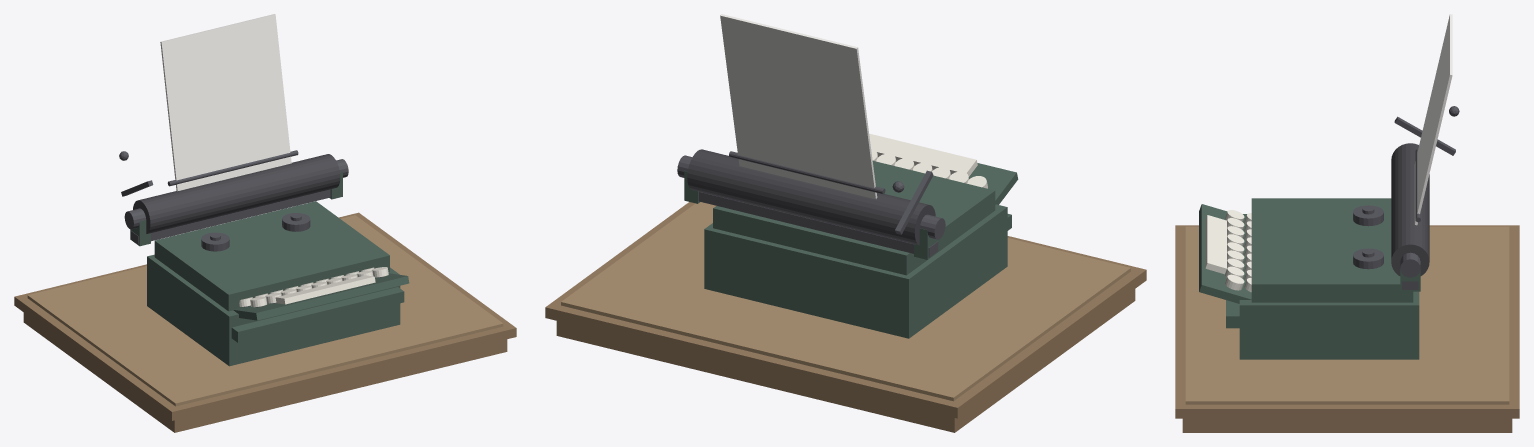
Rendered from firstdraft.glb.
The picture shows the model from 3 angles, left to right: view 1: azimuth 30°, elevation 25°; view 2: azimuth 150°, elevation 25°; view 3: azimuth 270°, elevation 25°; orthographic projection. The views are drawn at different scales.
Parts seen in each view (by area): view 1: geometry_2, geometry_88, geometry_4, geometry_3, geometry_1, geometry_80, geometry_0, geometry_5, geometry_6, geometry_83, geometry_79, geometry_89; view 2: geometry_2, geometry_88, geometry_3, geometry_1, geometry_0, geometry_4, geometry_80, geometry_83, geometry_79, geometry_6, geometry_89, geometry_86; view 3: geometry_2, geometry_4, geometry_3, geometry_1, geometry_0, geometry_80, geometry_88, geometry_6, geometry_79, geometry_92, geometry_90, geometry_82 (+2 smaller).
Boxes of the visible parts, x1,y1,x2,y2 form: geometry_2: (27,215,503,406); geometry_88: (160,14,291,191); geometry_4: (154,201,389,311); geometry_3: (147,254,400,366); geometry_1: (14,212,516,420); geometry_80: (133,154,340,233); geometry_0: (23,297,507,432); geometry_5: (231,287,404,342); geometry_6: (233,273,409,320); geometry_83: (130,189,330,244); geometry_79: (275,275,375,304); geometry_89: (167,150,298,186); geometry_2: (561,202,1130,401); geometry_88: (720,14,877,199); geometry_3: (704,204,1007,338); geometry_1: (545,202,1146,418); geometry_0: (556,270,1135,432); geometry_4: (713,161,995,275); geometry_80: (687,149,935,245); geometry_83: (698,192,938,257); geometry_79: (869,133,977,176); geometry_6: (969,163,1018,204); geometry_89: (729,151,885,194); geometry_86: (895,170,933,234); geometry_2: (1185,226,1509,404); geometry_4: (1251,198,1413,302); geometry_3: (1239,214,1419,359); geometry_1: (1175,225,1519,418); geometry_0: (1182,228,1512,432); geometry_80: (1391,143,1429,275); geometry_88: (1414,14,1452,225); geometry_6: (1199,204,1251,303); geometry_79: (1205,215,1226,274); geometry_92: (1353,248,1383,269); geometry_90: (1353,205,1383,226); geometry_82: (1400,252,1420,277).
Bounding box in the file's own units: 7.25 × 5.52 × 5.75.
